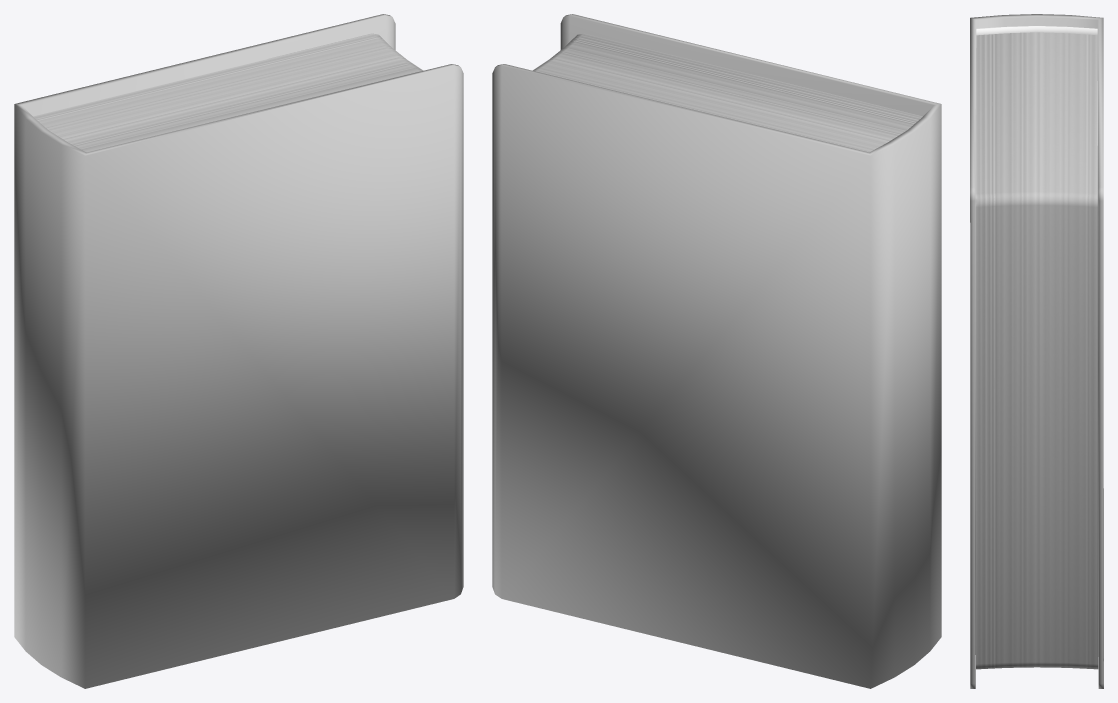
The model's file is Bible.fbx.
3 views of the same model, side by side, from view 1: azimuth 30°, elevation 25°; view 2: azimuth 150°, elevation 25°; view 3: azimuth 270°, elevation 25° (orthographic). The views are drawn at different scales.
Visible parts, largest first — view 1: Binding, Pages; view 2: Binding, Pages; view 3: Pages, Binding, Binding_Ends.
Part boxes in pixels (x1,y1,x2,y2): Binding: [14, 14, 463, 688]; Pages: [33, 33, 423, 152]; Binding: [492, 14, 941, 688]; Pages: [533, 33, 922, 152]; Pages: [975, 32, 1098, 669]; Binding: [970, 14, 1103, 688]; Binding_Ends: [976, 26, 1097, 35].
Size of the model in its own units: 20.7 by 27.25 by 6.58.
